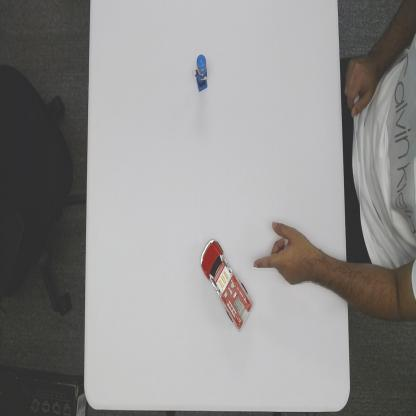Arm: (312, 241, 347, 304)
Firetruck: (198, 236, 255, 334)
Hand: (253, 222, 309, 287)
